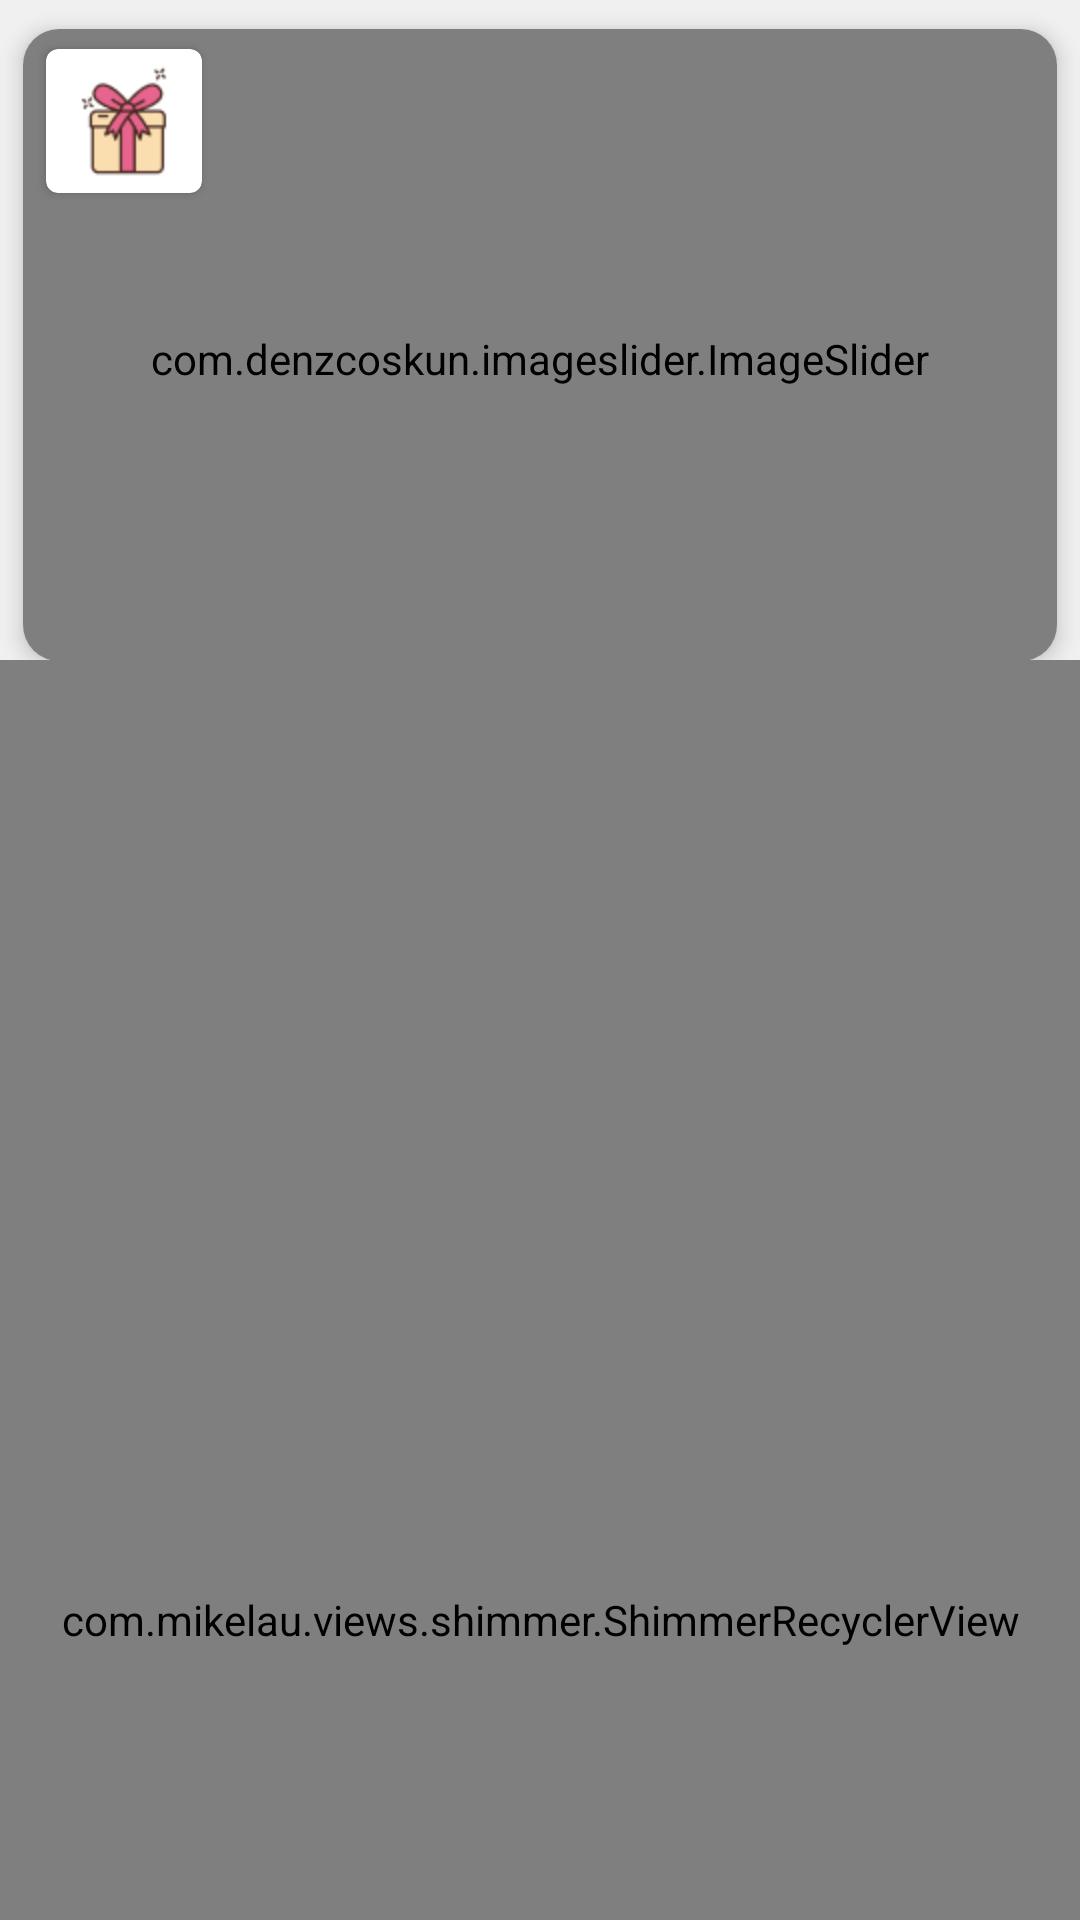

Named icons in this screenshot (1080px×1920px) and their bounding boxes, (x1, y1, x2, y2):
gift: (81, 67, 167, 175)
